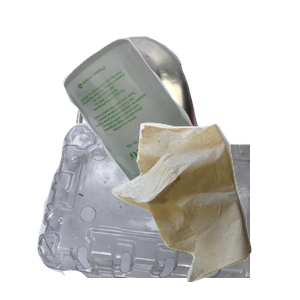glass: (60, 36, 300, 216)
metal: (73, 34, 285, 214)
plastic: (35, 120, 275, 300)
trash: (109, 120, 300, 300)
